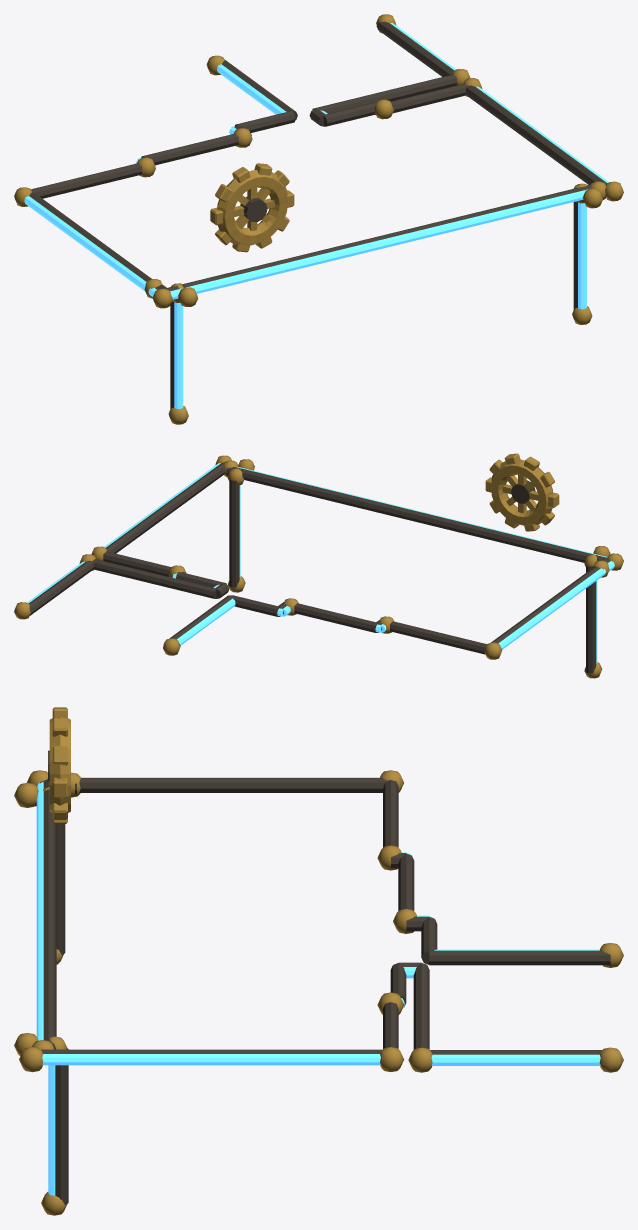
Rendered from mine-dress.glb.
The picture shows the model from 3 angles, top to bottom: view 1: azimuth 30°, elevation 25°; view 2: azimuth 150°, elevation 25°; view 3: azimuth 270°, elevation 25°; orthographic projection. The views are drawn at different scales.
Parts seen in each view (by area): view 1: mine-dress; view 2: mine-dress; view 3: mine-dress.
Part boxes in pixels (x1,y1,x2,y2): mine-dress: [14, 14, 623, 424]; mine-dress: [14, 453, 623, 678]; mine-dress: [14, 707, 623, 1215].
Bounding box in the file's own units: 2.24 × 1.08 × 2.
